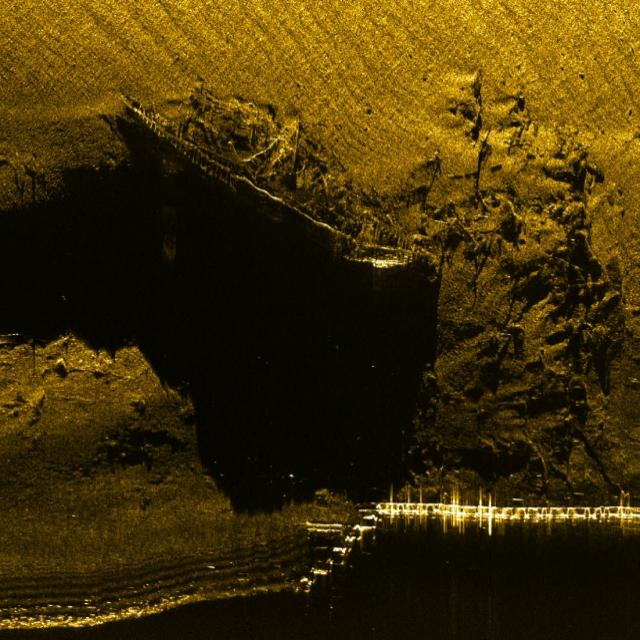ship: (118, 76, 440, 279)
